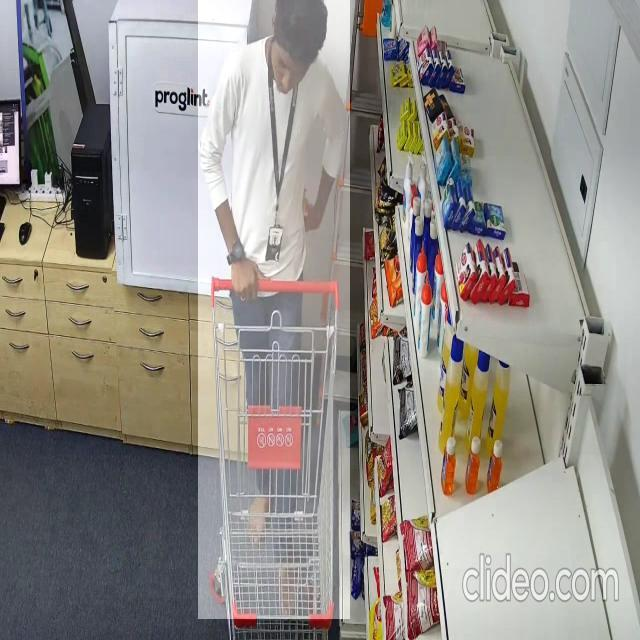Shoplifting: (198, 0, 350, 619)
